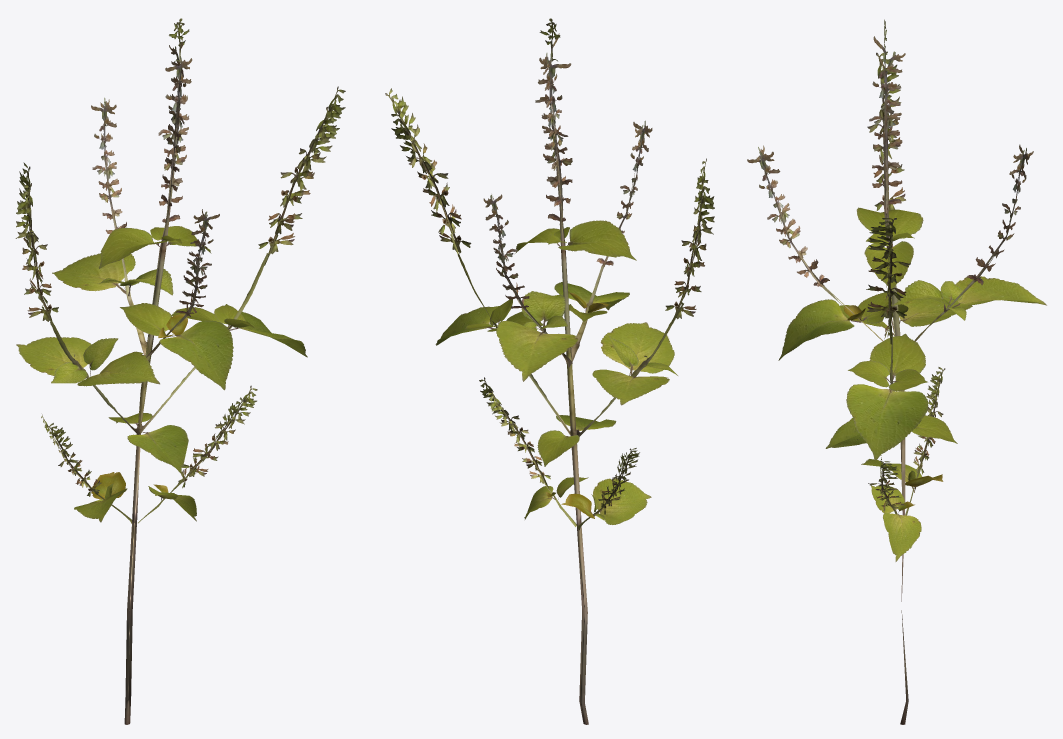
The model's file is shrub3.glb.
3 views of the same model, side by side, from view 1: azimuth 30°, elevation 25°; view 2: azimuth 150°, elevation 25°; view 3: azimuth 270°, elevation 25° (orthographic). The views are drawn at different scales.
Visible parts, largest first — view 1: lod1; view 2: lod1; view 3: lod1.
Part boxes in pixels (x1,y1,x2,y2): lod1: (15,18,345,724); lod1: (385,18,714,724); lod1: (747,19,1046,724).
Bounding box in the file's own units: 0.4981 × 1 × 0.3754.
1 material, 1 textured.
